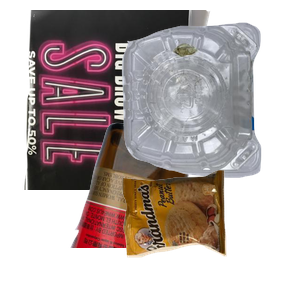glass: (68, 120, 255, 300)
paper: (22, 10, 225, 190)
plastic: (119, 20, 300, 190)
trash: (120, 168, 300, 300)
